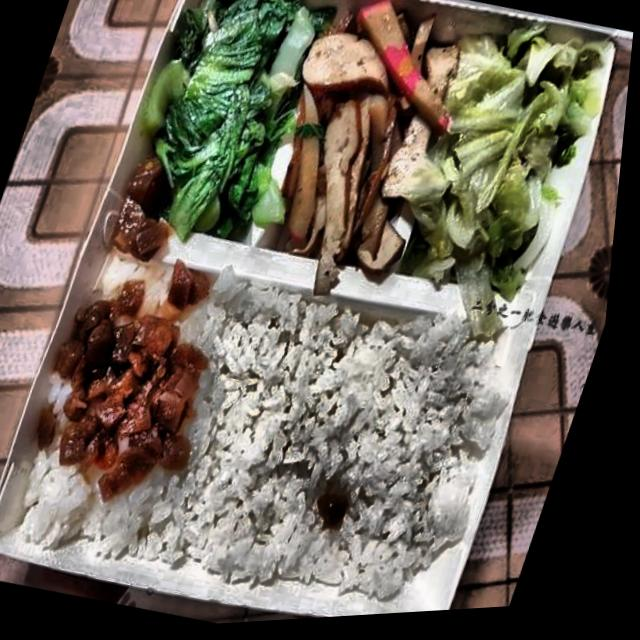Food: (129, 255, 535, 632)
